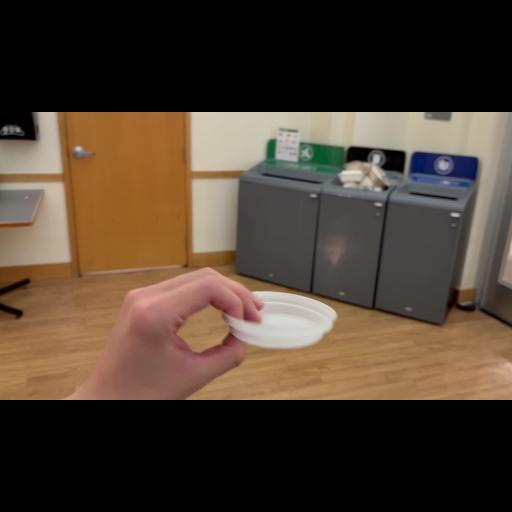straw: (219, 284, 341, 364)
